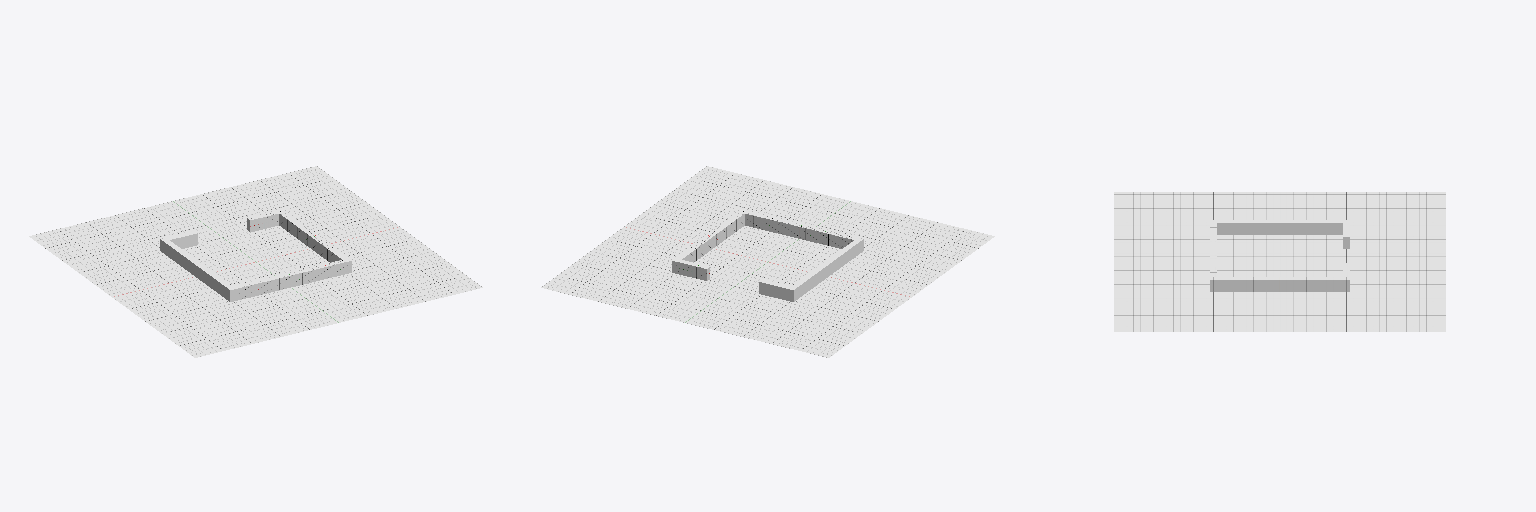
3 views of the same model, side by side, from view 1: azimuth 30°, elevation 25°; view 2: azimuth 150°, elevation 25°; view 3: azimuth 270°, elevation 25° (orthographic).
Parts seen in each view (by area): view 1: object40, object24, object32, object16; view 2: object40, object24, object32, object16; view 3: object40, object16, object32.
Boxes of the visible parts, x1=… form: object40: x1=29, y1=166, x2=482, y2=357; object24: x1=233, y1=260, x2=345, y2=300; object32: x1=160, y1=238, x2=235, y2=301; object16: x1=276, y1=210, x2=351, y2=273; object40: x1=541, y1=166, x2=994, y2=357; object24: x1=745, y1=211, x2=856, y2=248; object32: x1=788, y1=238, x2=863, y2=301; object16: x1=672, y1=210, x2=747, y2=273; object40: x1=1114, y1=192, x2=1445, y2=331; object16: x1=1210, y1=277, x2=1349, y2=291; object32: x1=1210, y1=220, x2=1349, y2=234.
Bounding box in the file's own units: 50 × 2 × 50.
Materials: 6 (4 with a texture image).